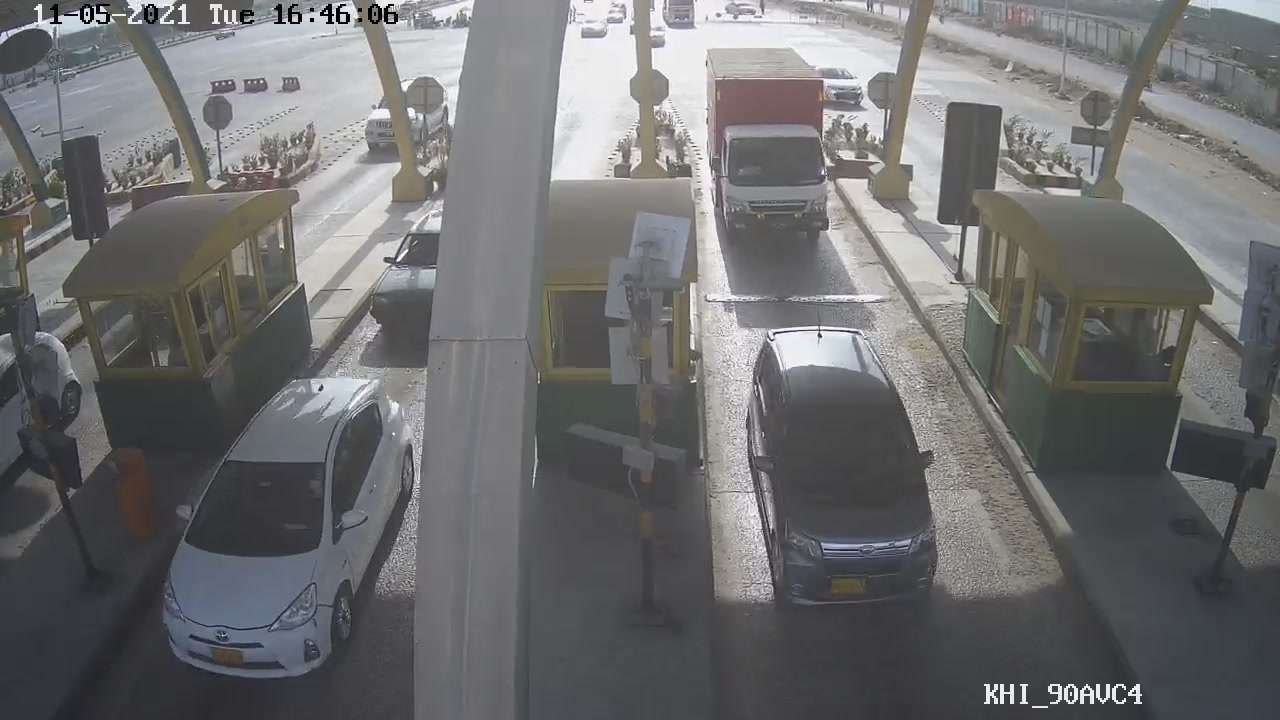F1: (747, 316, 937, 610)
F5: (693, 43, 847, 248)
